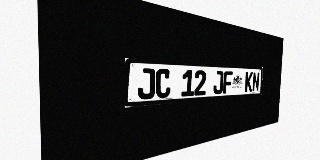1: (181, 70, 195, 97)
2: (194, 70, 206, 96)
C: (155, 69, 171, 99)
F: (223, 71, 233, 94)
J: (138, 68, 155, 100), (213, 71, 223, 94)
K: (245, 72, 253, 92)
N: (252, 72, 260, 92)
